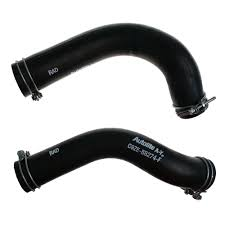radiator_hose: (14, 23, 208, 118), (15, 127, 215, 199)
